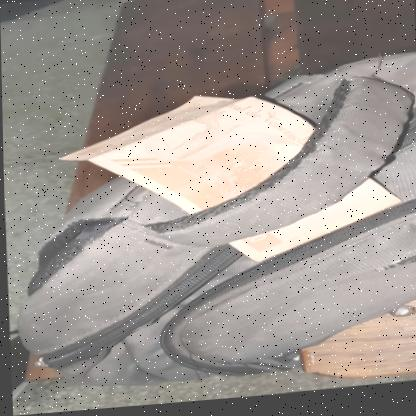twenty-back-vef: (54, 81, 401, 284)
